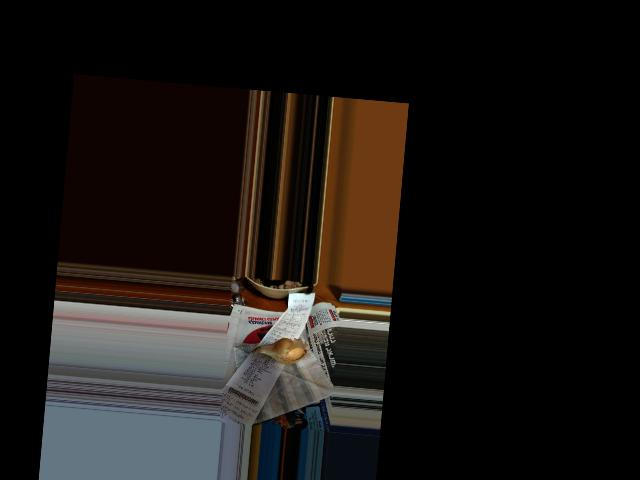onion: (261, 334, 306, 367)
